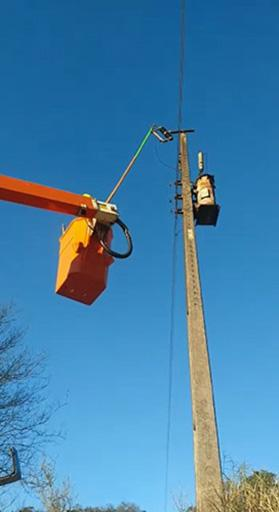Vara_Manobra: (103, 123, 155, 208)
